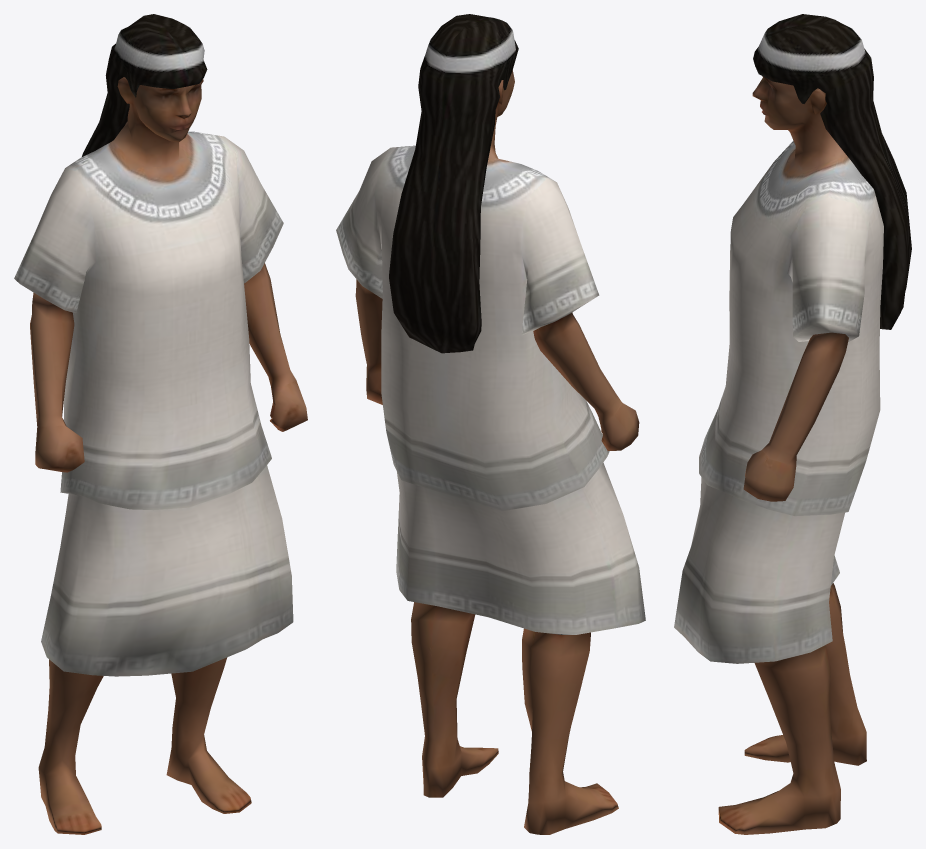
Rendered from body-female-base.glb.
The picture shows the model from 3 angles, left to right: view 1: azimuth 30°, elevation 25°; view 2: azimuth 150°, elevation 25°; view 3: azimuth 270°, elevation 25°; orthographic projection. The views are drawn at different scales.
Size of the model in its own units: 0.7581 by 2.08 by 0.5708.
Materials: 1 (1 with a texture image).
